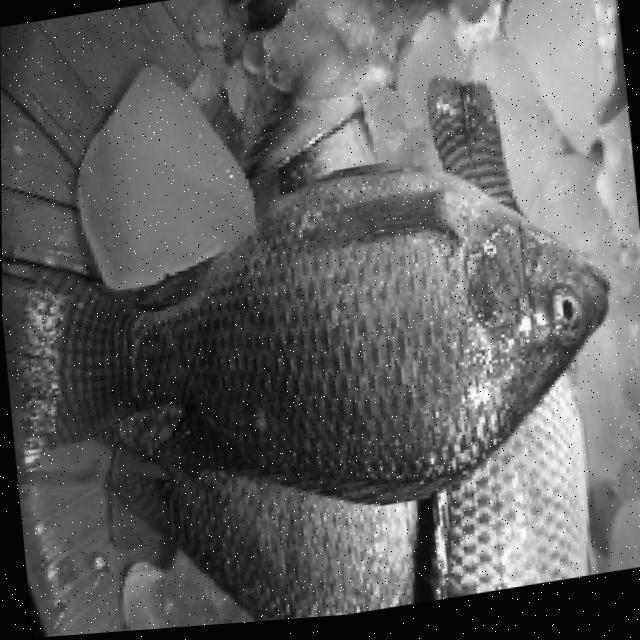Fresh: (1, 116, 638, 579)
